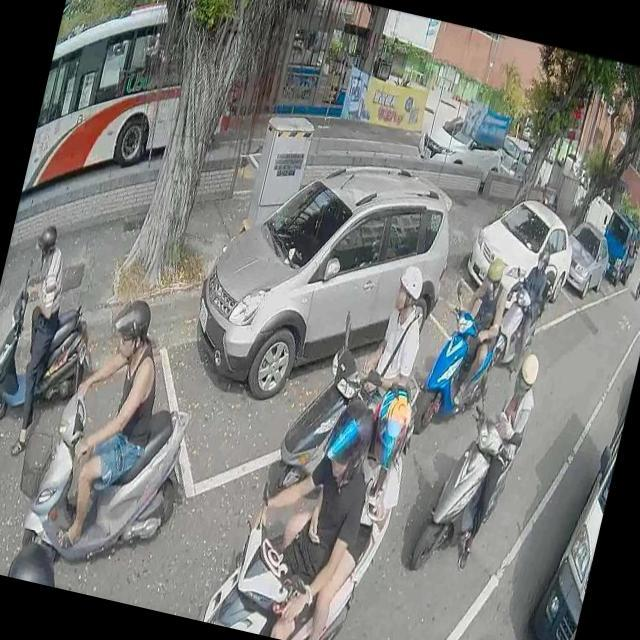person: (210, 383, 385, 640), (266, 364, 415, 640), (36, 282, 180, 566), (448, 337, 543, 578), (0, 217, 82, 454), (345, 254, 435, 431), (436, 239, 516, 411), (500, 247, 560, 378), (7, 524, 65, 586)
